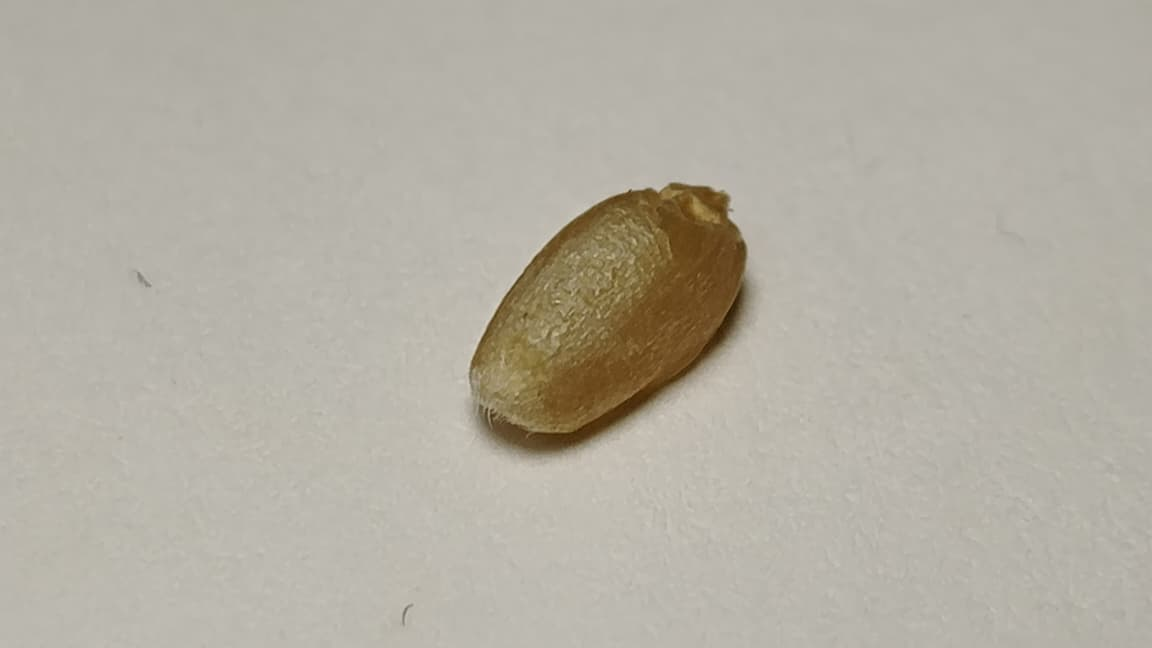healthy: (470, 183, 745, 433)
